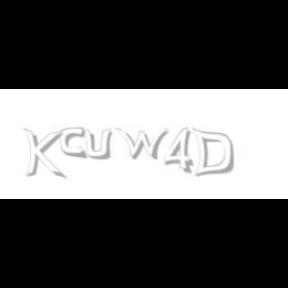4: (162, 128, 194, 174)
D: (192, 128, 234, 178)
K: (23, 128, 63, 180)
c: (60, 128, 88, 160)
u: (82, 128, 116, 160)
w: (114, 128, 174, 160)
